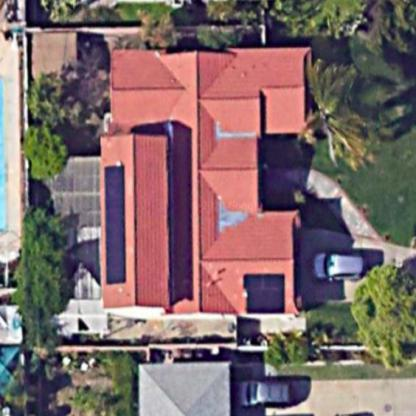car: (232, 372, 296, 407), (313, 248, 369, 285)
solar_panel: (102, 157, 131, 296), (239, 268, 291, 318)
